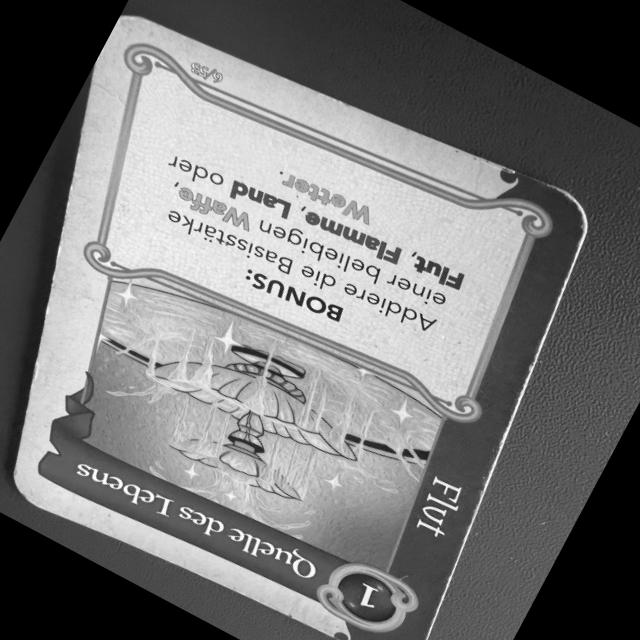Fountain Of Life: (2, 6, 600, 640)
